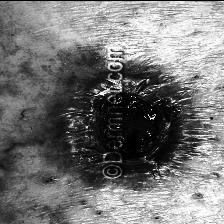Potentially Malignant Skin Tumors: (62, 70, 194, 182)
